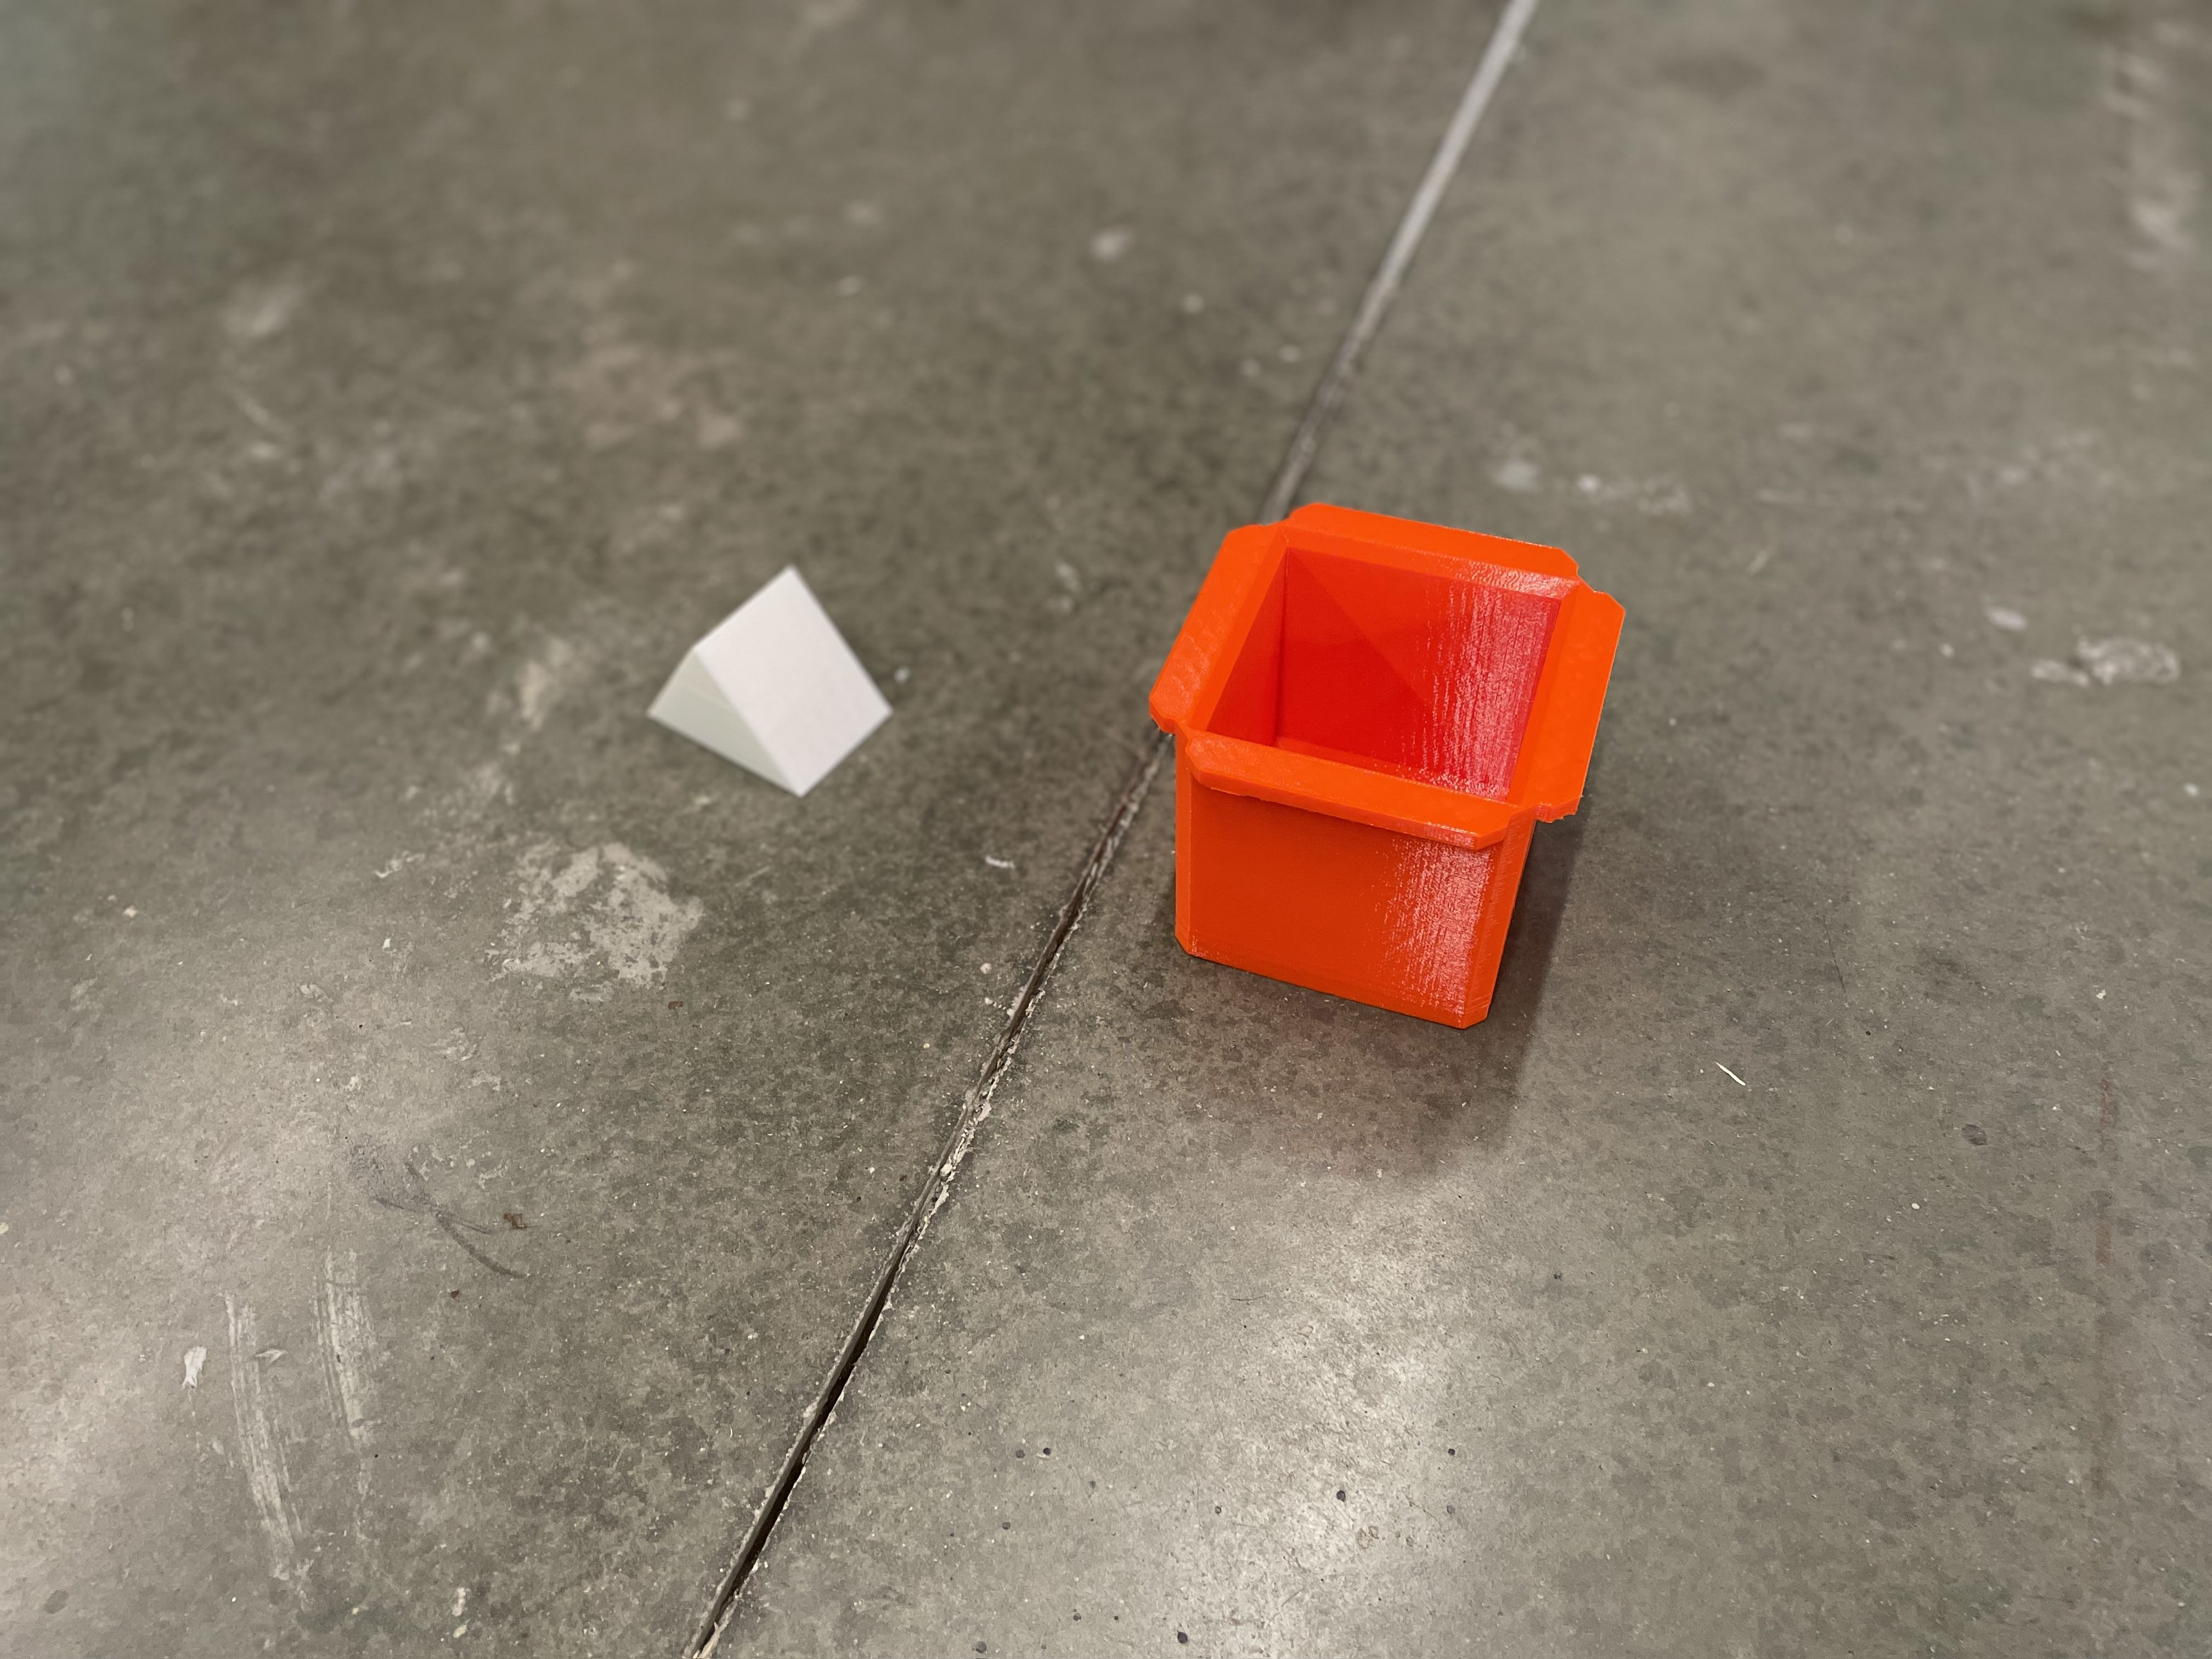payload1: (1132, 484, 1653, 1084)
payload2: (627, 535, 913, 824)
